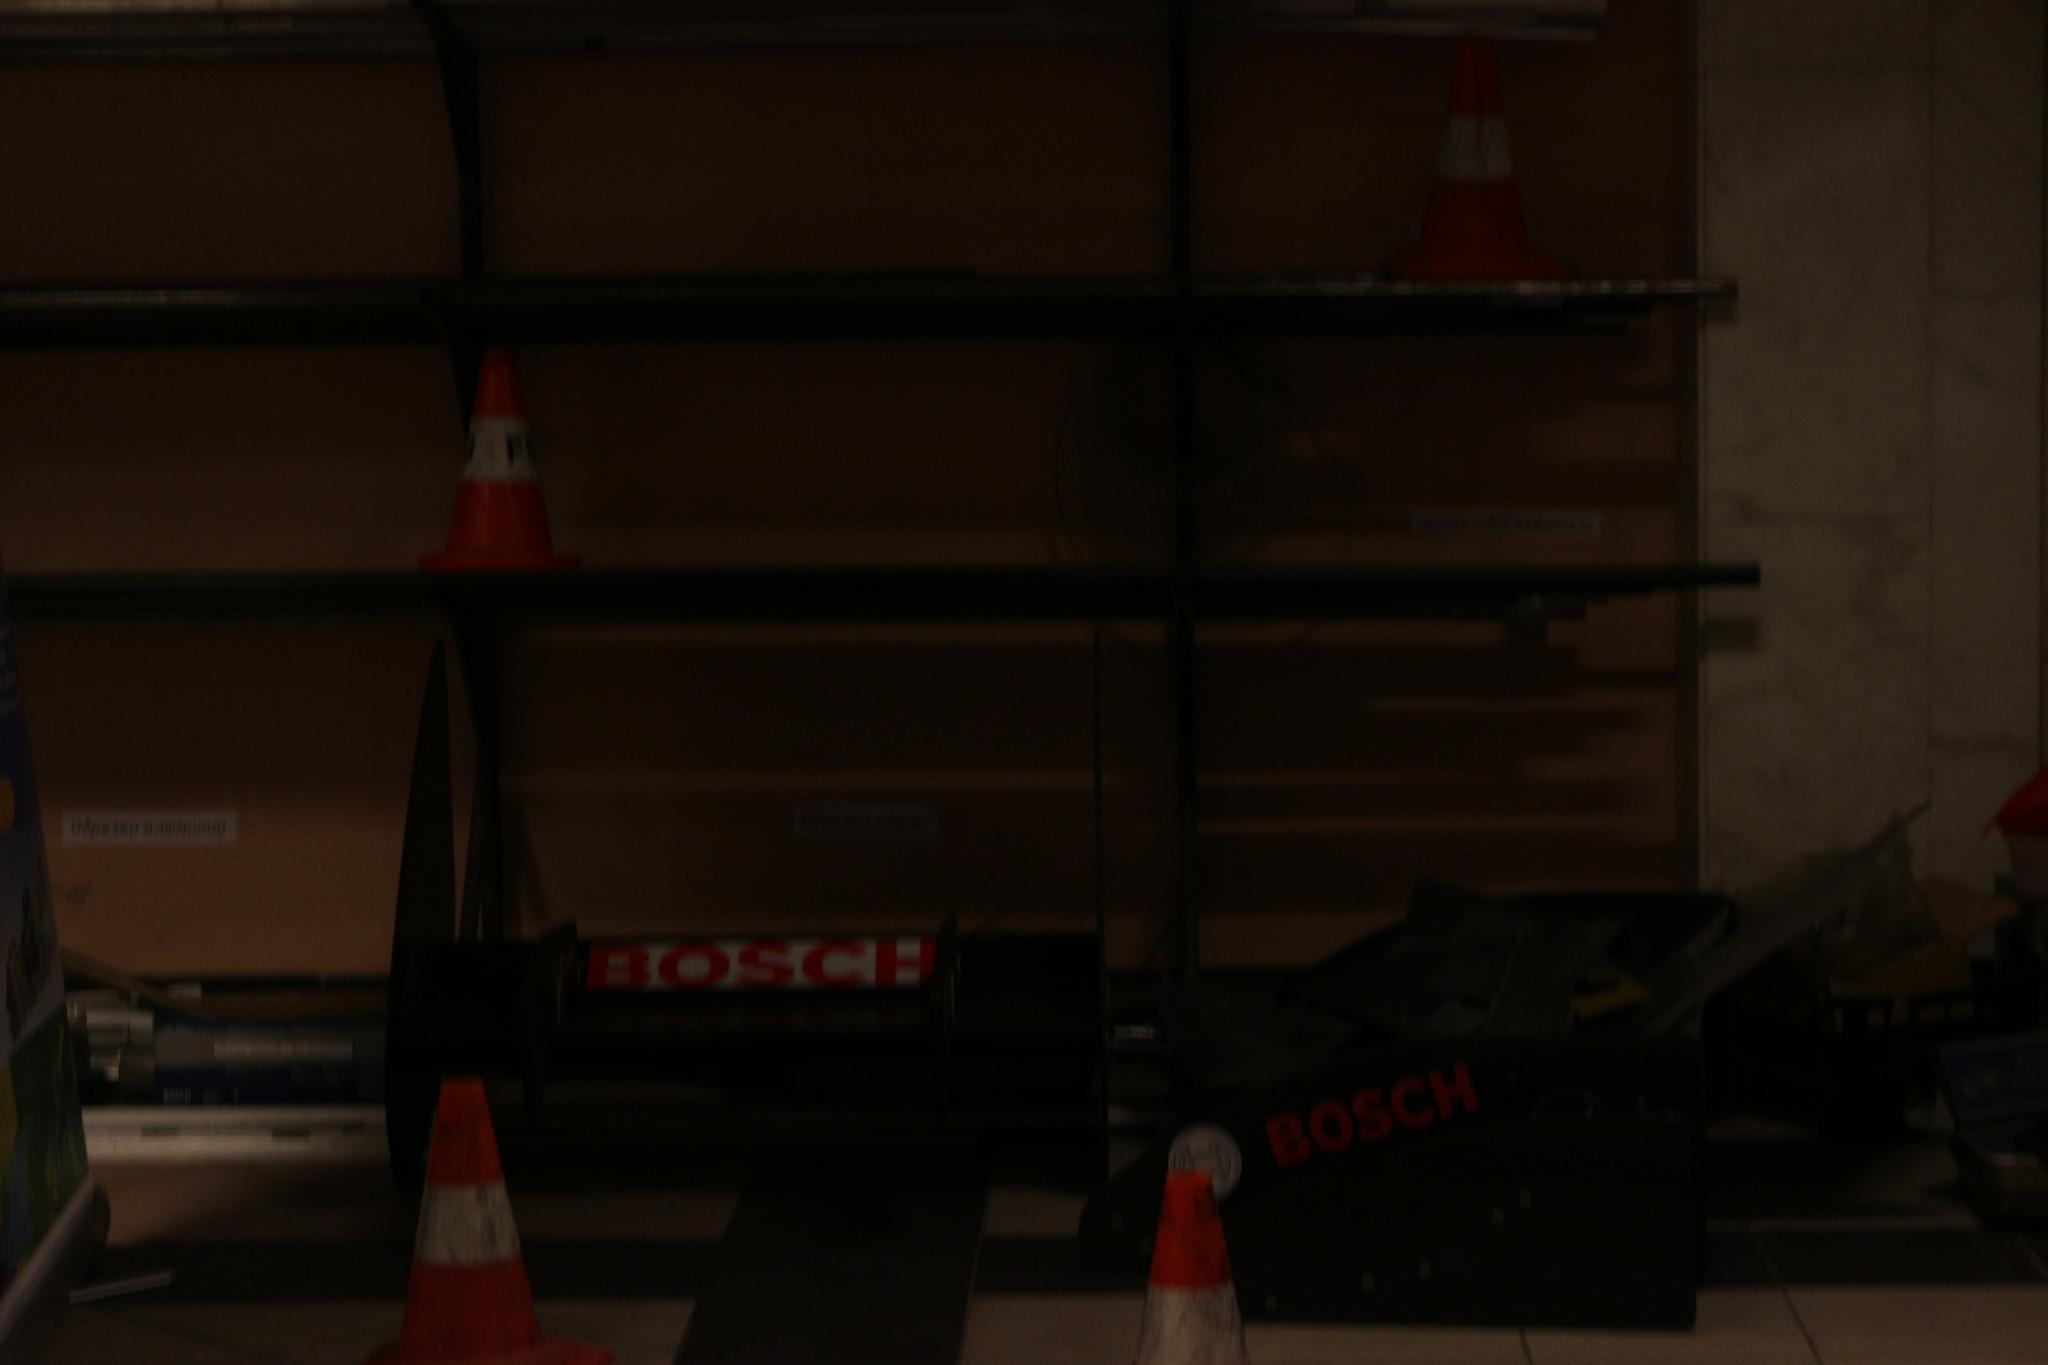Orange_Cone: (381, 1069, 601, 1360), (404, 350, 589, 591), (1381, 52, 1559, 296), (1090, 1164, 1299, 1360)
